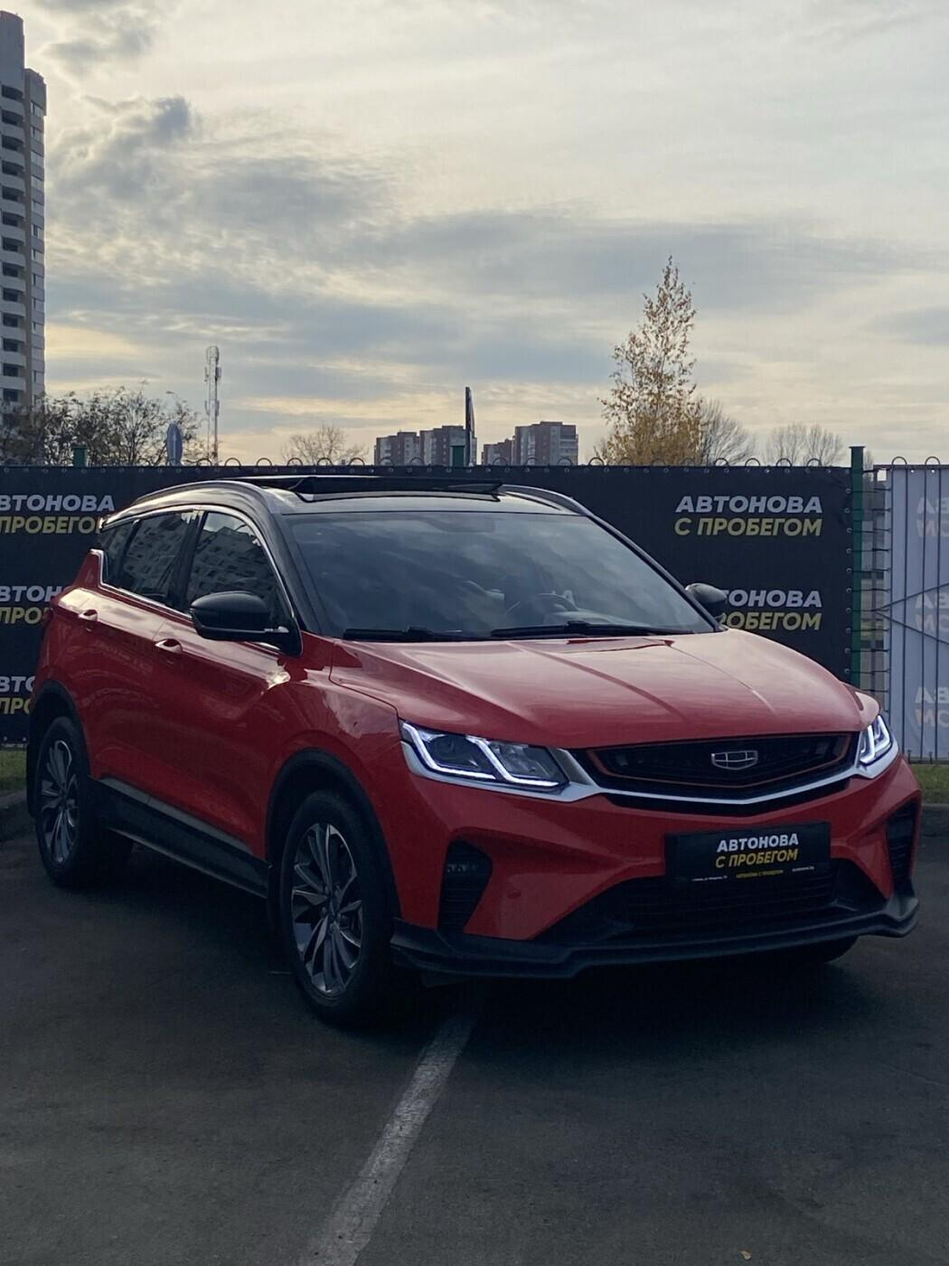Coolray_2019-2023: (25, 467, 922, 1013)
